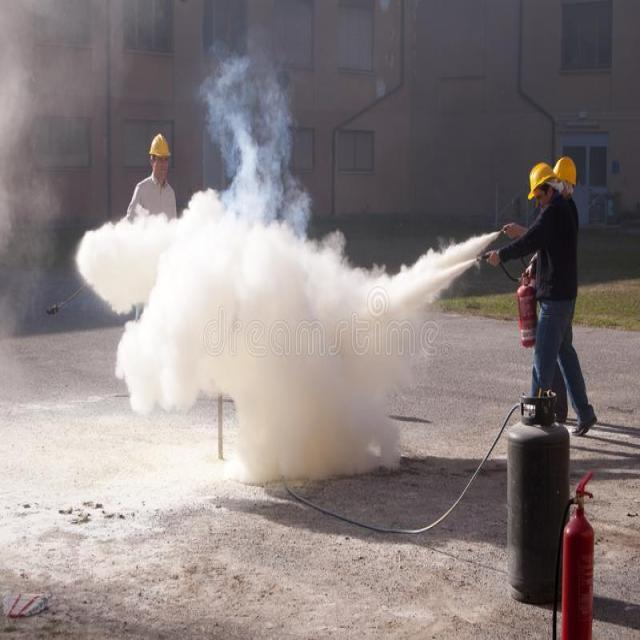fire_extinguisher: (549, 462, 602, 639), (471, 244, 539, 355)
